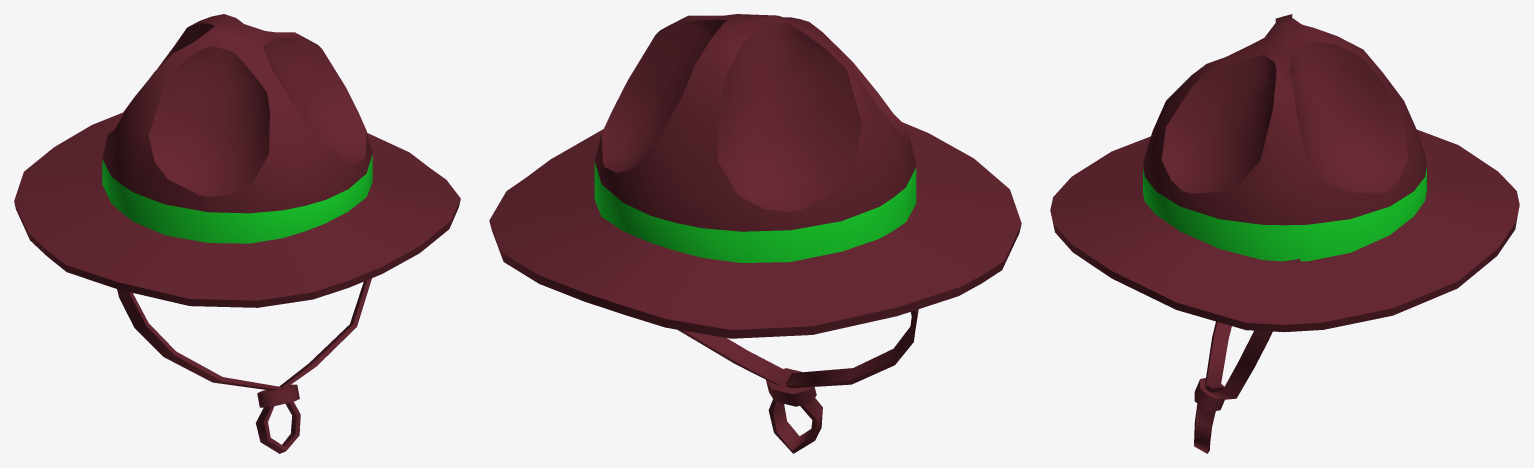
File: Boyscout_hat_01.fbx
3 renders of one model, left to right at view 1: azimuth 30°, elevation 25°; view 2: azimuth 150°, elevation 25°; view 3: azimuth 270°, elevation 25°, orthographic. The views are drawn at different scales.
Parts seen in each view (by area): view 1: Boyscout_hat_01.c, Boyscout_hat_01; view 2: Boyscout_hat_01.c, Boyscout_hat_01; view 3: Boyscout_hat_01.c, Boyscout_hat_01.
Part boxes in pixels (left/top/right/bottom): Boyscout_hat_01.c: left=14, top=14, right=460, bottom=307; Boyscout_hat_01: left=117, top=278, right=371, bottom=453; Boyscout_hat_01.c: left=489, top=14, right=1021, bottom=338; Boyscout_hat_01: left=677, top=309, right=918, bottom=453; Boyscout_hat_01.c: left=1050, top=14, right=1519, bottom=332; Boyscout_hat_01: left=1194, top=258, right=1300, bottom=453.
Bounding box in the file's own units: 0.9647 × 0.9652 × 0.9747.
